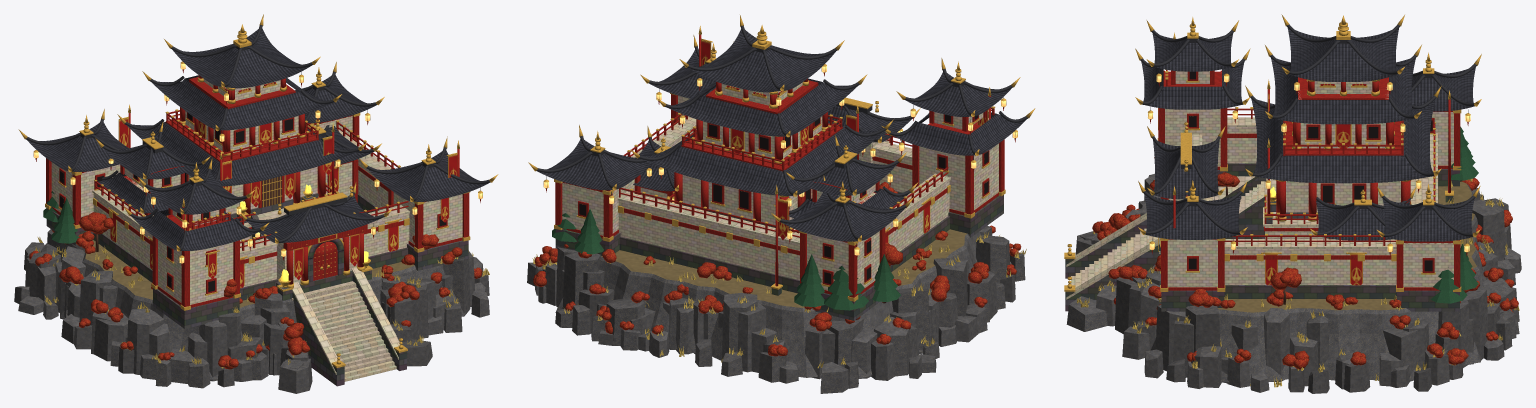
Rendered from fire_fortress.glb.
3 views of the same model, side by side, from view 1: azimuth 30°, elevation 25°; view 2: azimuth 150°, elevation 25°; view 3: azimuth 270°, elevation 25° (orthographic). The views are drawn at different scales.
Visible parts, largest first — view 1: FKF_MapleFoliage, FKF_KeepRoof1, FKF_Massif, FKF_KeepRoof2, FKF_KeepRoof3, FKF_TowerFL_body, FKF_GateRoof, FKF_TowerFR_roof0, FKF_TowerFL_roof0, FKF_TowerBL_roof0, FKF_TowerFL_roof1, FKF_TowerFR_body (+54 smaller); view 2: FKF_Massif, FKF_MapleFoliage, FKF_WallBack.001, FKF_KeepRoof1, FKF_KeepRoof2, FKF_KeepRoof3, FKF_Pines, FKF_TowerBL_roof0, FKF_TowerFL_body, FKF_TowerBR_roof0, FKF_TowerFL_roof0, FKF_WallBack (+52 smaller); view 3: FKF_Massif, FKF_KeepRoof1, FKF_MapleFoliage, FKF_KeepRoof2, FKF_WallRight.001, FKF_KeepRoof3, FKF_TowerFR_roof0, FKF_TowerBR_roof0, FKF_TowerFL_roof0, FKF_GateRoof, FKF_TowerFR_body, FKF_TowerFL_roof1 (+56 smaller).
Boxes of the visible parts, box(x1,y1,x2,y2) form: FKF_MapleFoliage: box(29, 212, 482, 369); FKF_KeepRoof1: box(126, 122, 357, 186); FKF_Massif: box(57, 240, 465, 379); FKF_KeepRoof2: box(151, 75, 332, 130); FKF_KeepRoof3: box(172, 28, 311, 88); FKF_TowerFL_body: box(158, 240, 233, 304); FKF_GateRoof: box(246, 194, 381, 242); FKF_TowerFR_roof0: box(367, 150, 488, 201); FKF_TowerFL_roof0: box(132, 209, 259, 250); FKF_TowerBL_roof0: box(27, 122, 128, 171); FKF_TowerFL_roof1: box(146, 172, 245, 214); FKF_TowerFR_body: box(393, 192, 462, 244); FKF_Massif: box(555, 229, 980, 378); FKF_MapleFoliage: box(533, 149, 1021, 356); FKF_WallBack.001: box(618, 200, 799, 279); FKF_KeepRoof1: box(641, 127, 884, 195); FKF_KeepRoof2: box(667, 78, 858, 136); FKF_KeepRoof3: box(689, 29, 835, 92); FKF_Pines: box(552, 209, 900, 310); FKF_TowerBL_roof0: box(780, 192, 904, 241); FKF_TowerFL_body: box(919, 143, 998, 212); FKF_TowerBR_roof0: box(537, 139, 652, 190); FKF_TowerFL_roof0: box(892, 112, 1026, 155); FKF_WallBack: box(619, 236, 799, 293); FKF_Massif: box(1150, 181, 1486, 382); FKF_KeepRoof1: box(1251, 99, 1435, 183); FKF_MapleFoliage: box(1092, 157, 1518, 369); FKF_KeepRoof2: box(1271, 58, 1415, 124); FKF_WallRight.001: box(1224, 249, 1396, 284); FKF_KeepRoof3: box(1287, 28, 1398, 81); FKF_TowerFR_roof0: box(1144, 194, 1241, 239); FKF_TowerBR_roof0: box(1382, 199, 1474, 241); FKF_TowerFL_roof0: box(1141, 62, 1244, 109); FKF_GateRoof: box(1153, 140, 1219, 199); FKF_TowerFR_body: box(1167, 239, 1217, 287); FKF_TowerFL_roof1: box(1152, 33, 1233, 71).
Size of what is drawn, in the model's own units: 36.41 by 23.65 by 34.94.
Materials: 18 (11 with a texture image).
